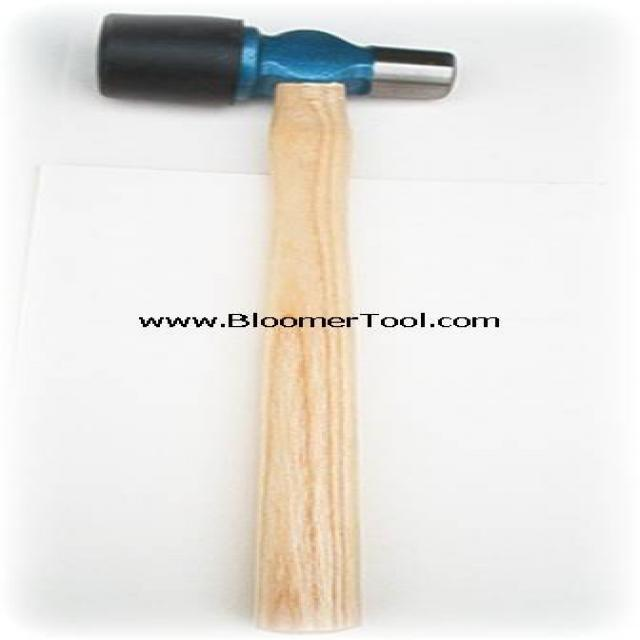hammer: (89, 5, 468, 633)
